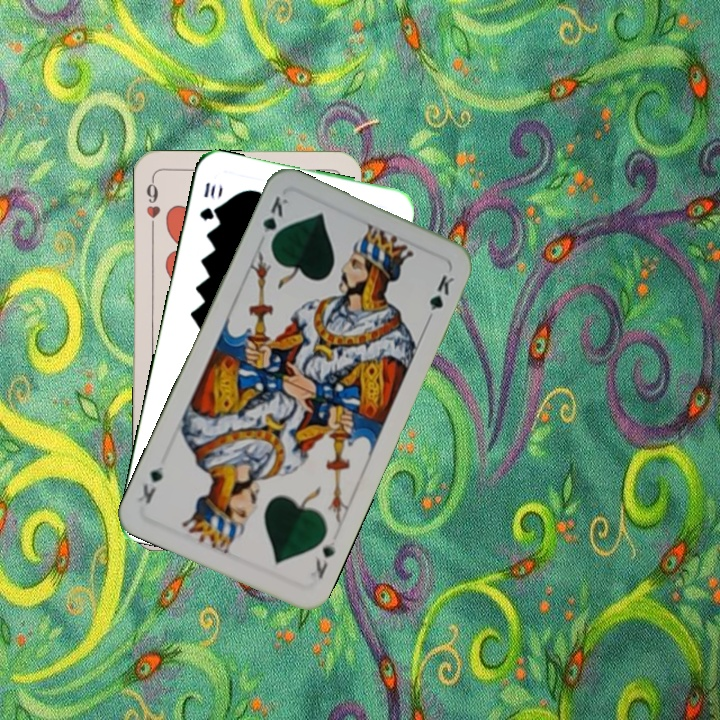G10: (195, 178, 218, 223)
GK: (257, 192, 291, 249), (311, 537, 338, 581)
H9: (142, 175, 163, 234)
